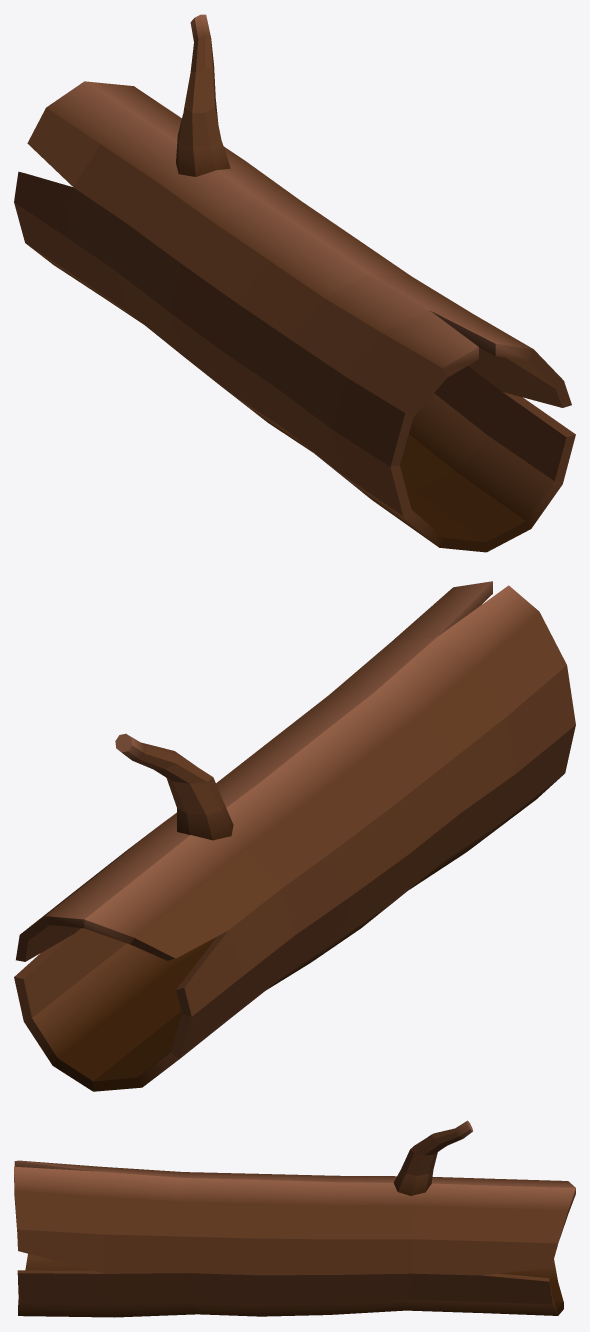
Rendered from Fallen Log.fbx.
3 renders of one model, top to bottom at view 1: azimuth 30°, elevation 25°; view 2: azimuth 150°, elevation 25°; view 3: azimuth 270°, elevation 25°, orthographic. The views are drawn at different scales.
Visible parts, largest first — view 1: Fallen Trunk; view 2: Fallen Trunk; view 3: Fallen Trunk.
Part boxes in pixels (left/top/right/bottom): Fallen Trunk: left=14, top=14, right=575, bottom=552; Fallen Trunk: left=14, top=581, right=575, bottom=1091; Fallen Trunk: left=14, top=1120, right=575, bottom=1317.
Bounding box in the file's own units: 61.25 × 97.41 × 244.
